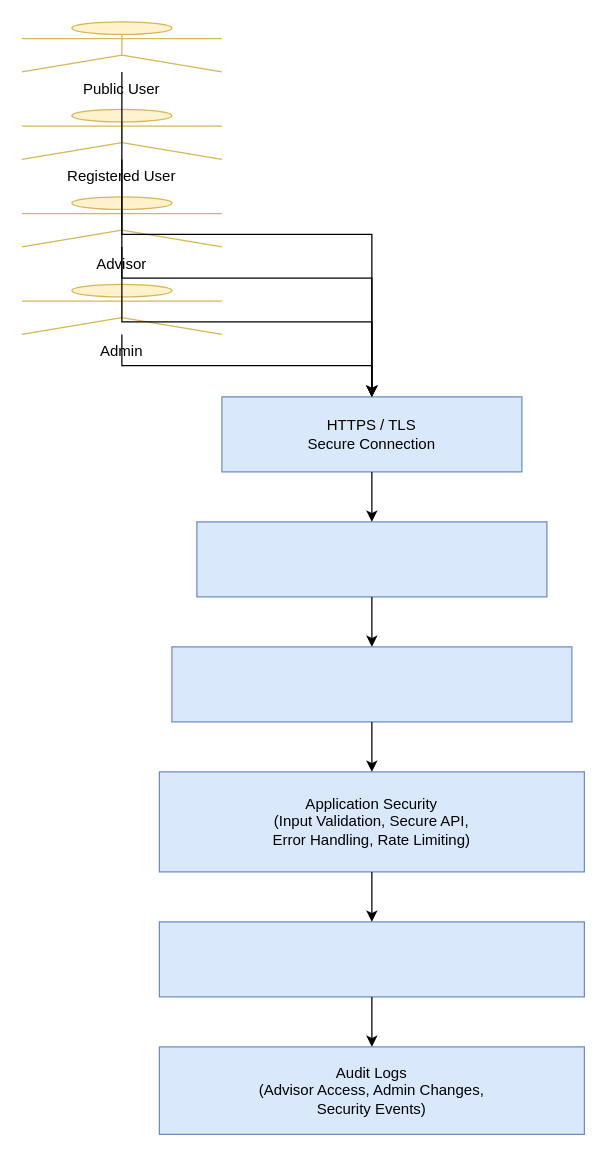
Image size: 606x1156. Some labels were removed from this diagram. The shapes that lost their labels are listed below. From the top down, each one's centre as x and y in pixels, then its label:
(x=371, y=559): Authentication (Login, Session Management)
(x=371, y=684): Authorization / RBAC (Public, Registered, Advisor, Admin)
(x=371, y=959): Database Security (Access Control, Encryption, Backups)
